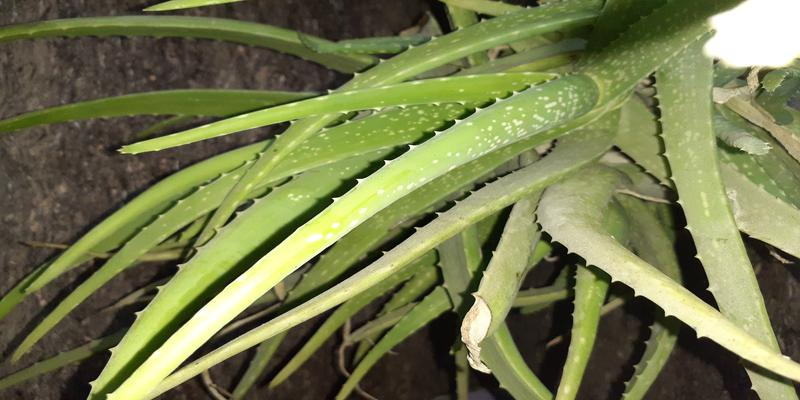Aloevera: (282, 35, 777, 353)
